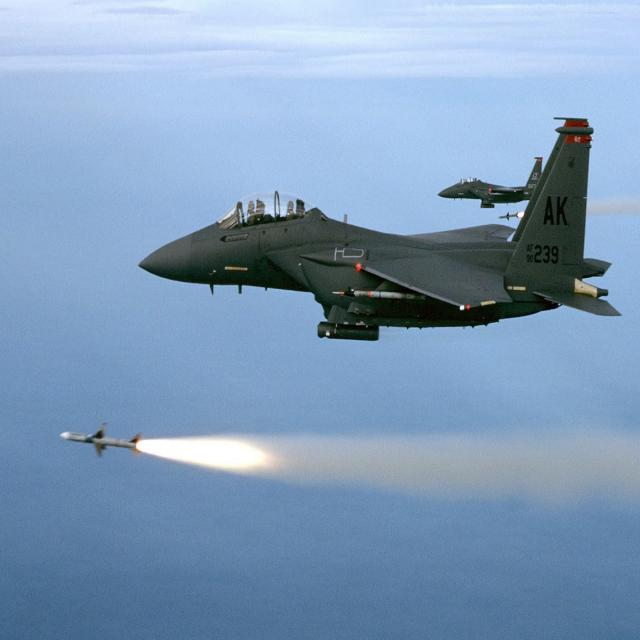F15: (120, 103, 634, 374)
